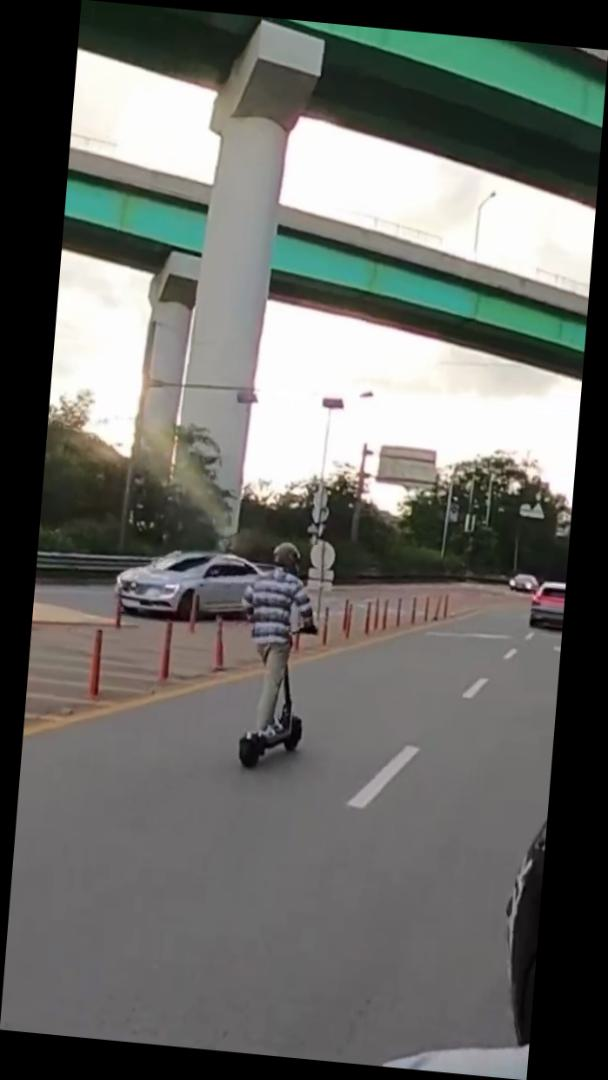helmet: (227, 534, 327, 777)
